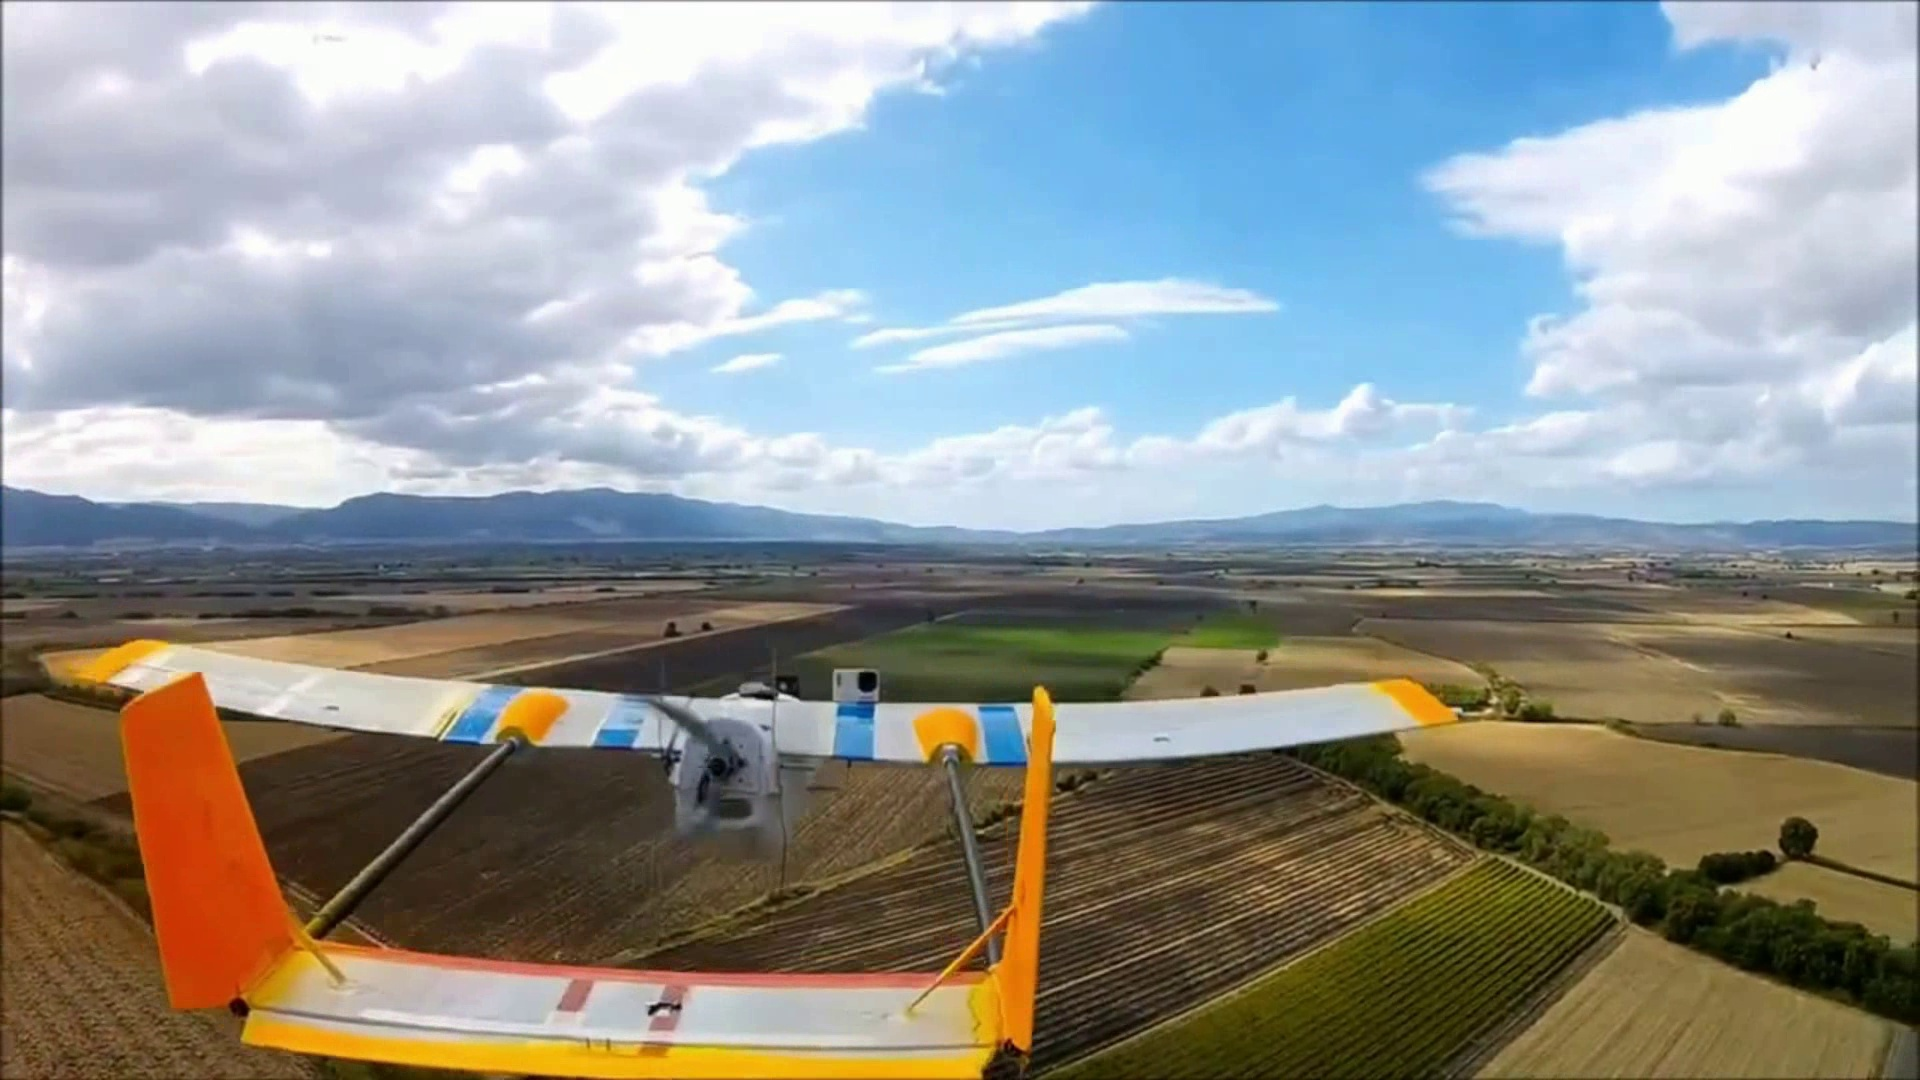airplane: (46, 637, 1520, 1064)
